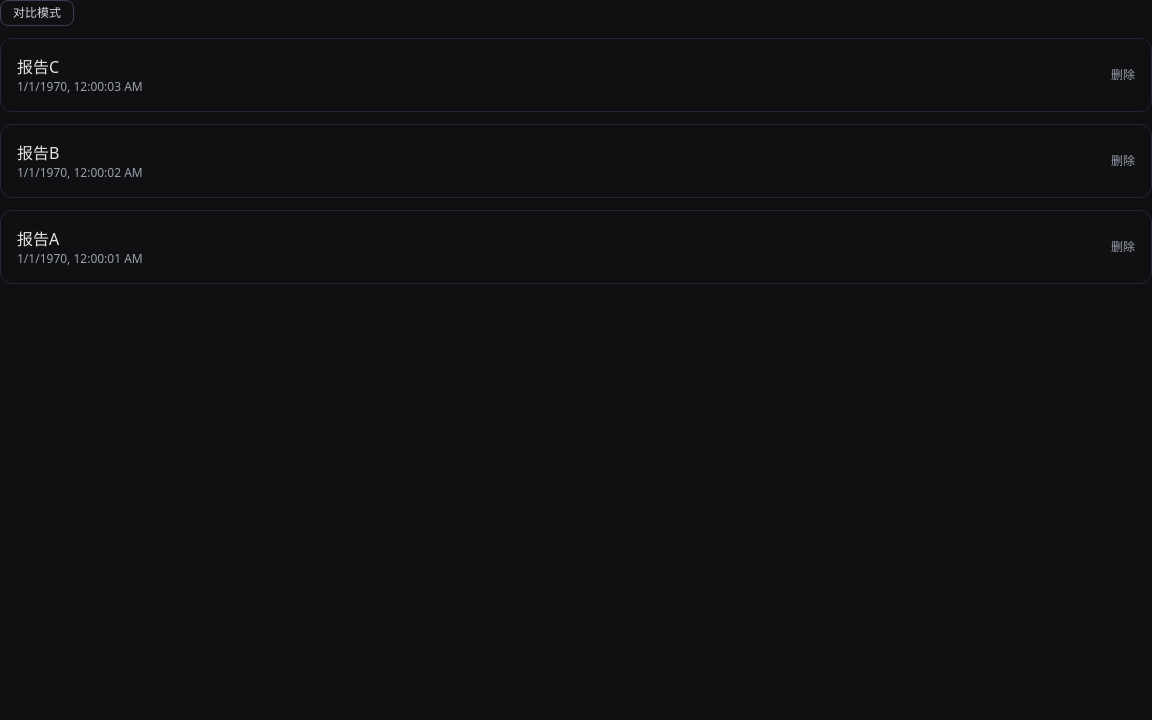
HistoryList：对比模式与 Diff（W21） › 点「对比这 2 份报告」→ 弹出 Diff 弹窗并展示真实差异
Click the button "对比模式" at (37, 13), box [0,0,74,26]
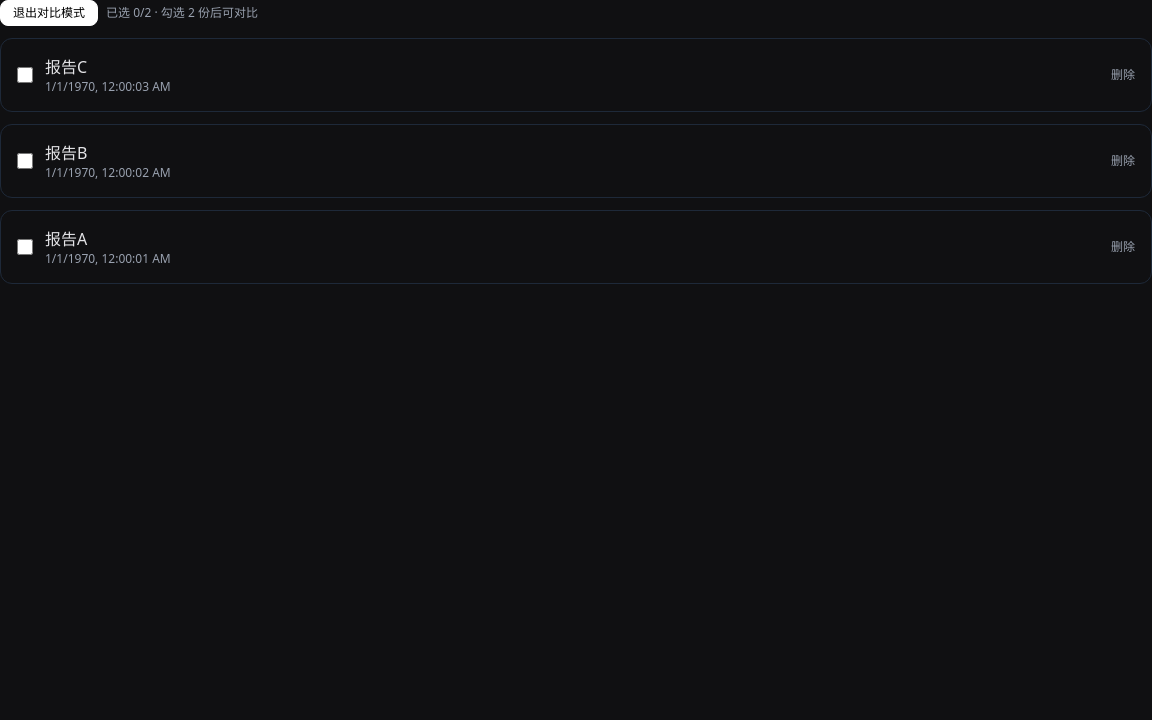
Click the checkbox named "选择 报告A" at (25, 247), box [17,239,33,255]
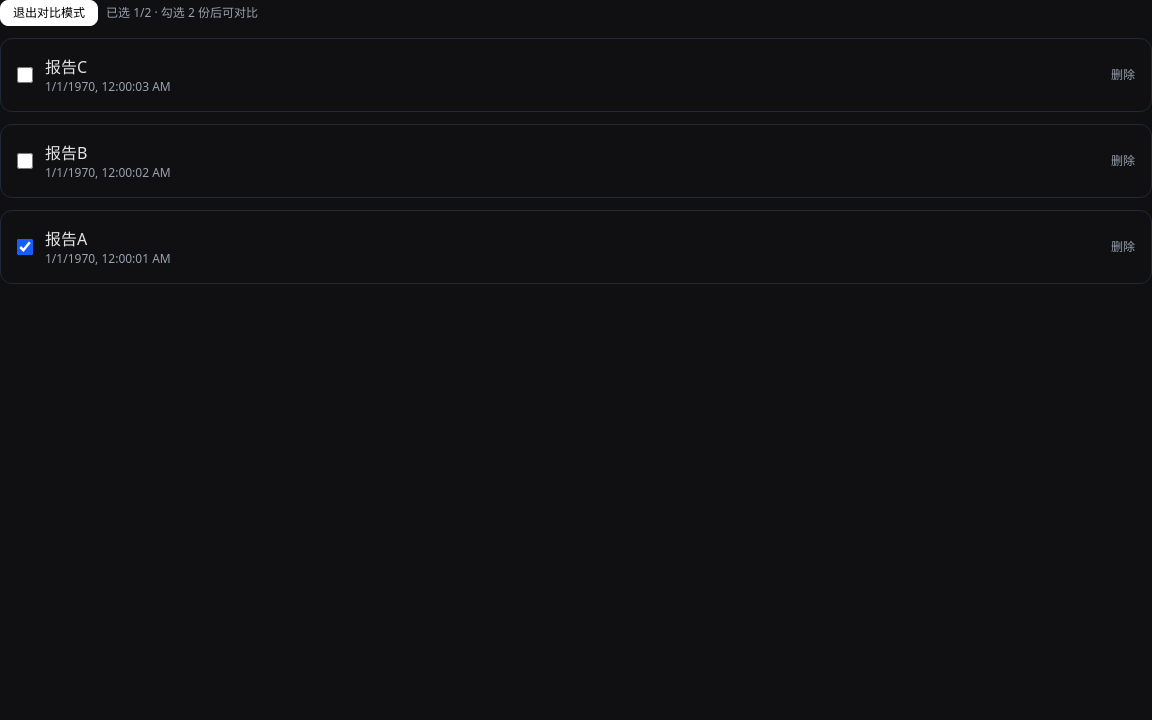
Click the checkbox named "选择 报告C" at (25, 75), box [17,67,33,83]
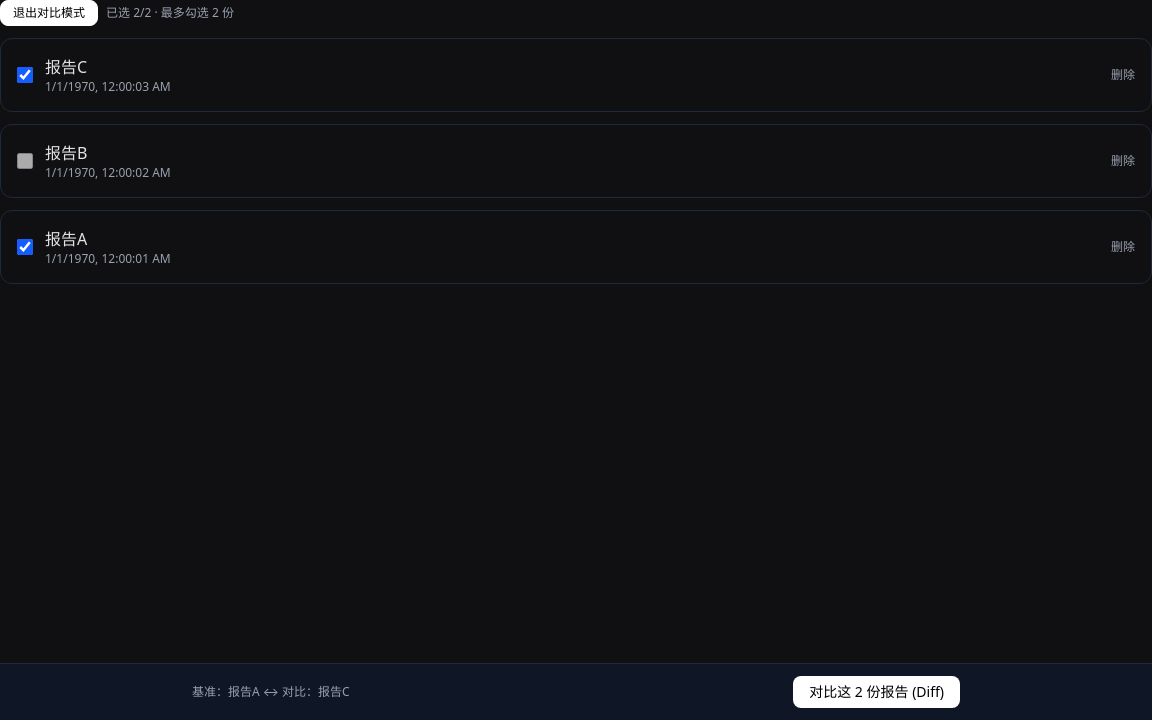
Click the button "对比这 2 份报告 (Diff)" at (877, 692), box [793,676,960,708]
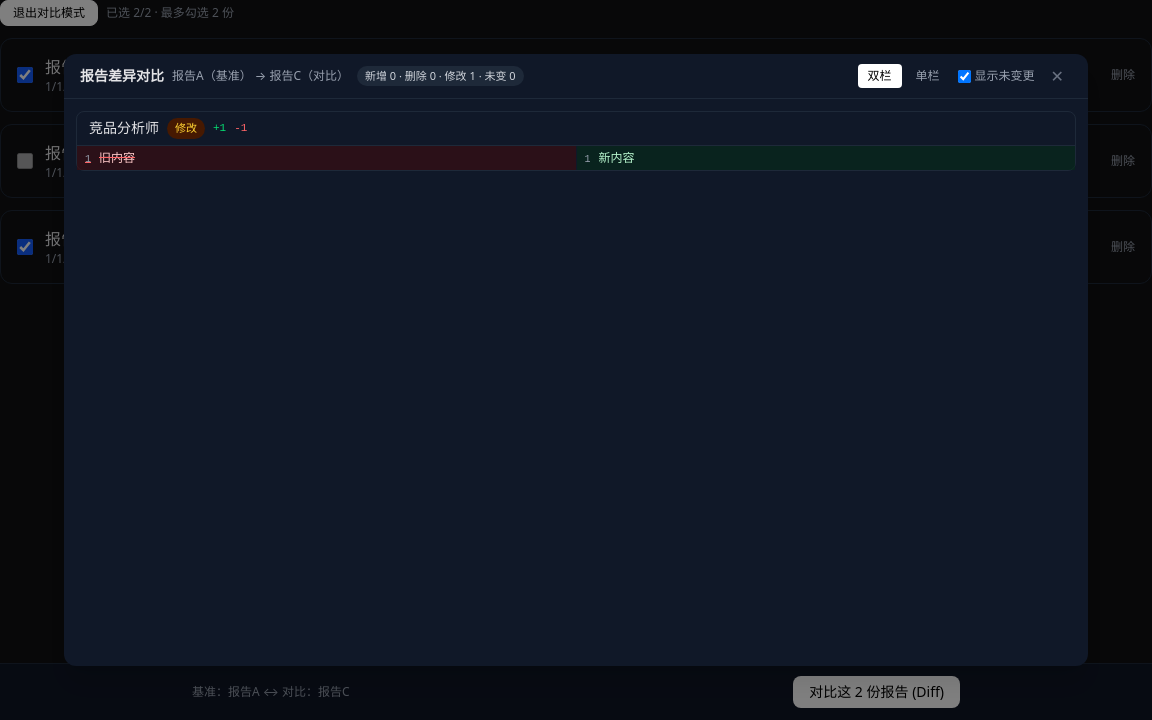
Now the dialog is shown
Now the text "新增 0 · 删除 0 · 修改 1 · 未变 0" is shown, box [357,66,524,86]
